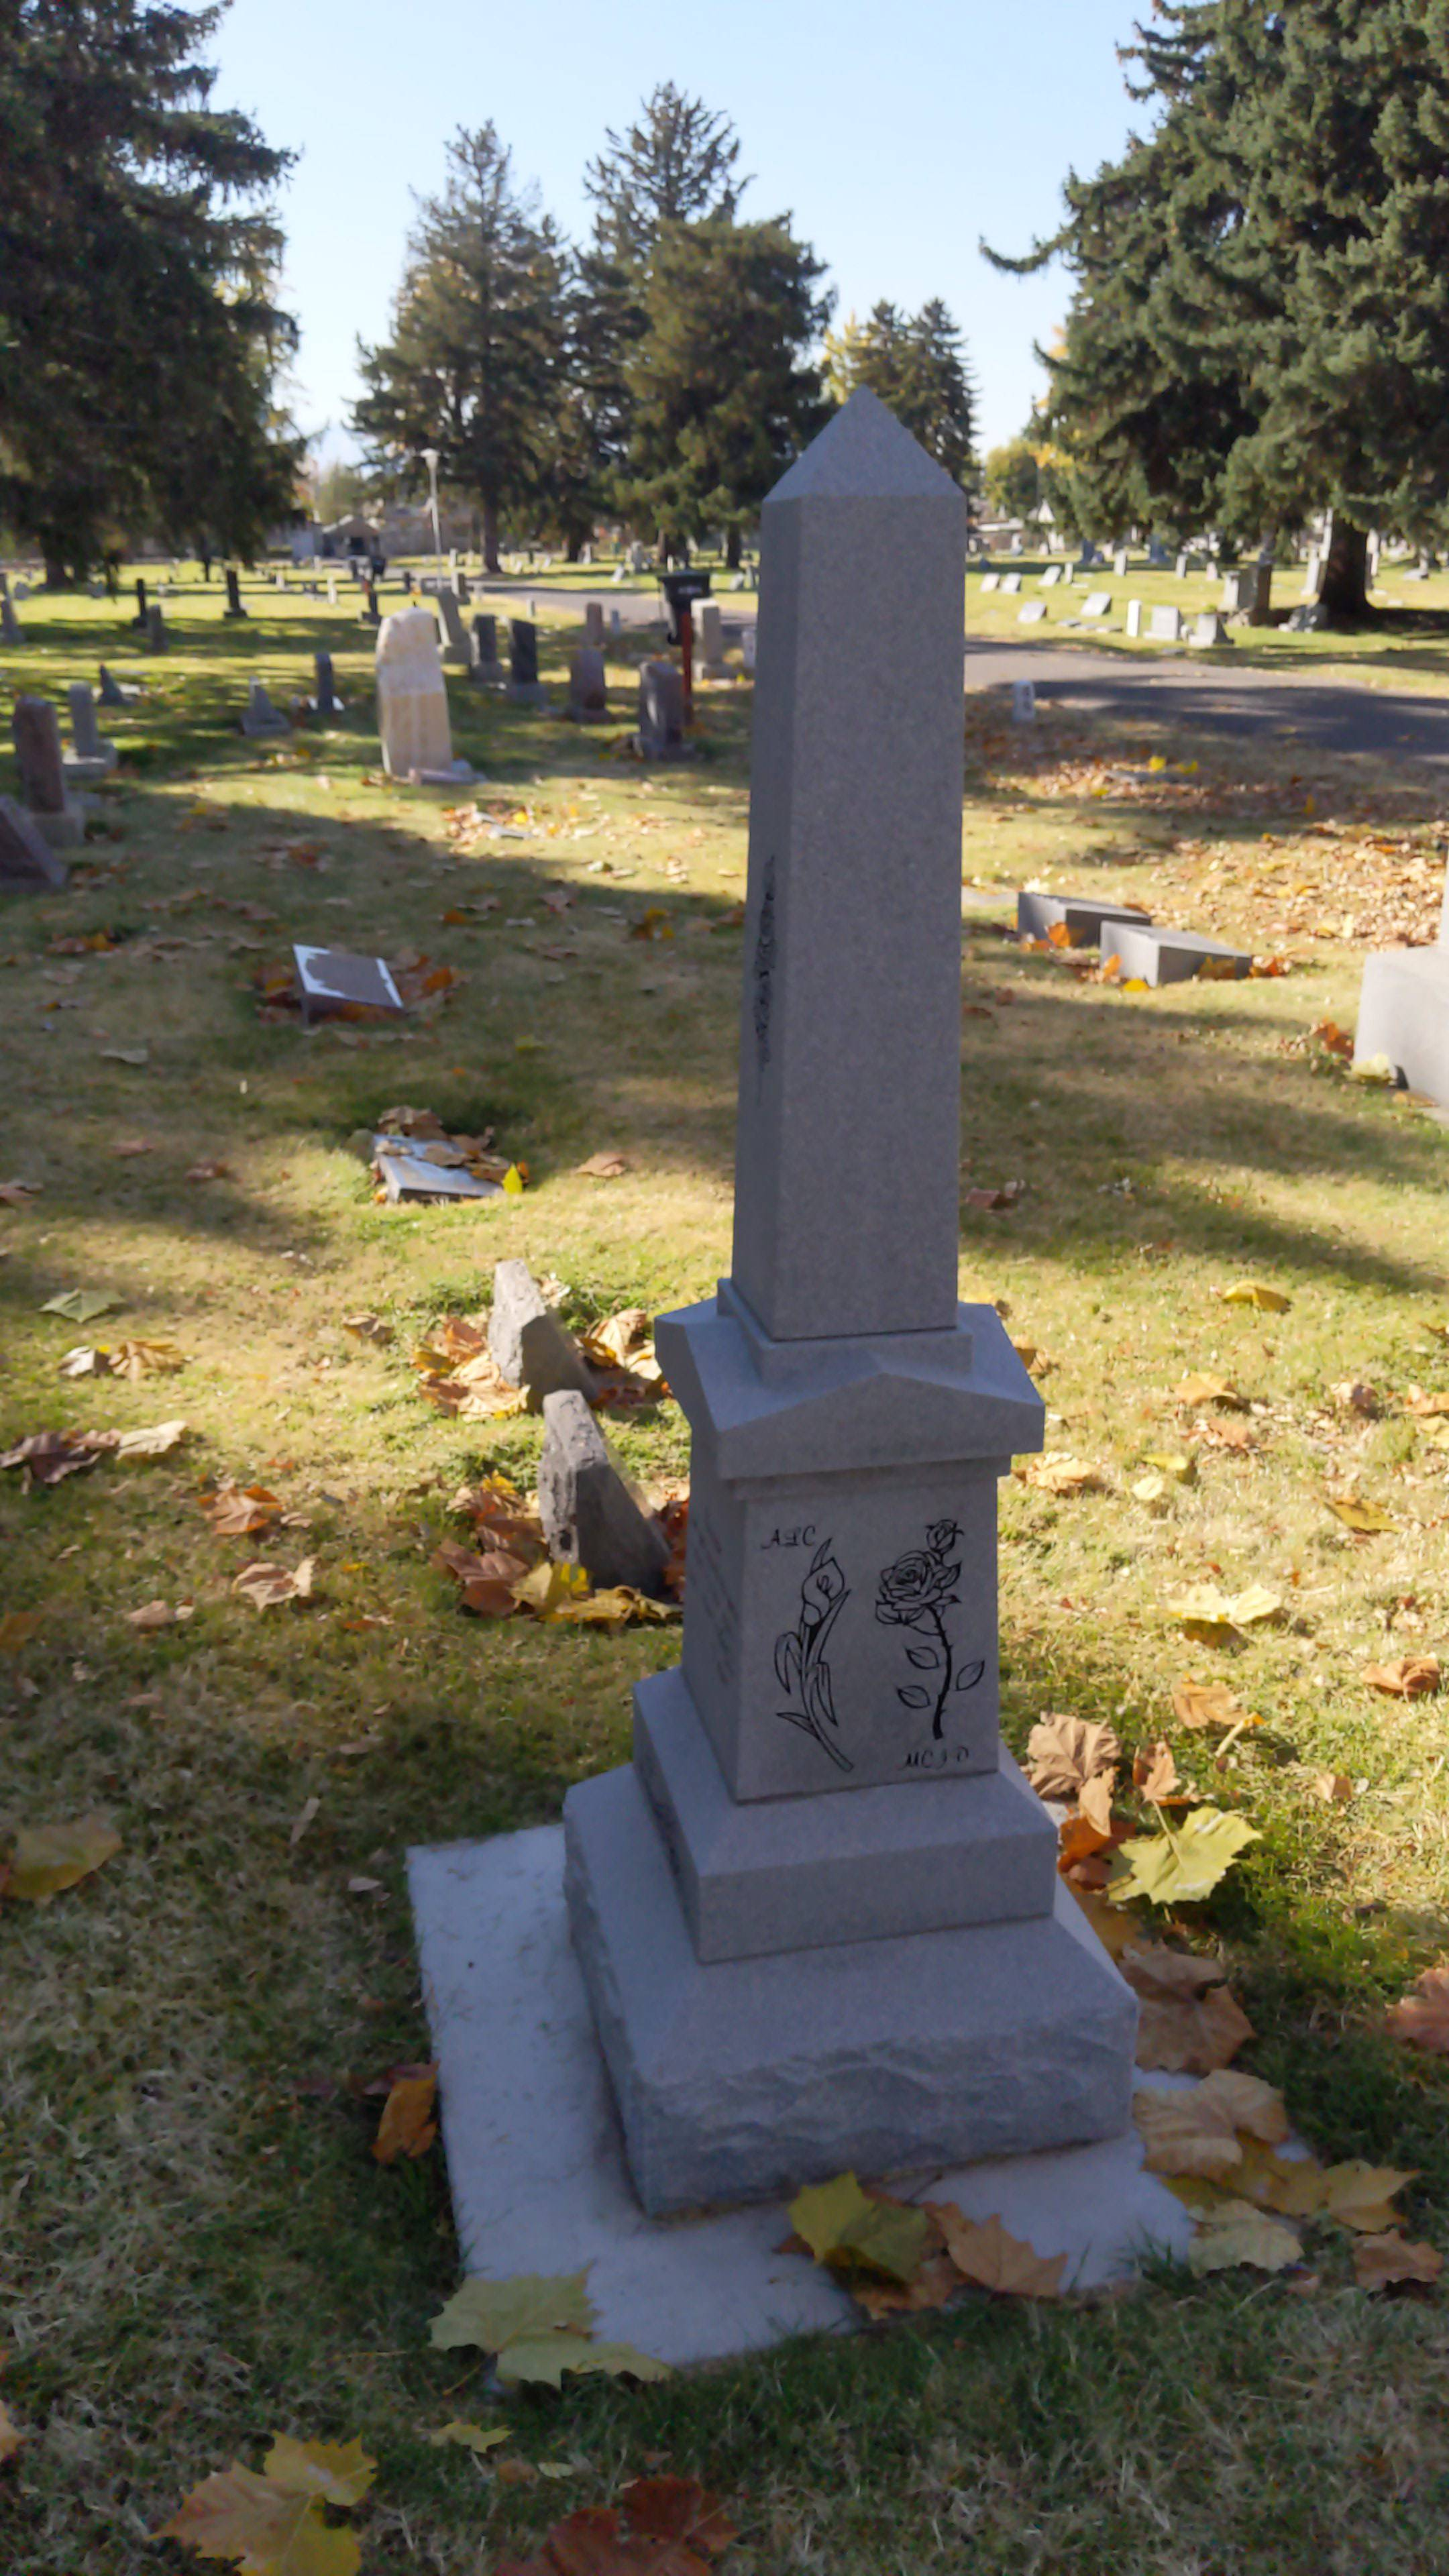obelisk: (637, 384, 1044, 1948)
